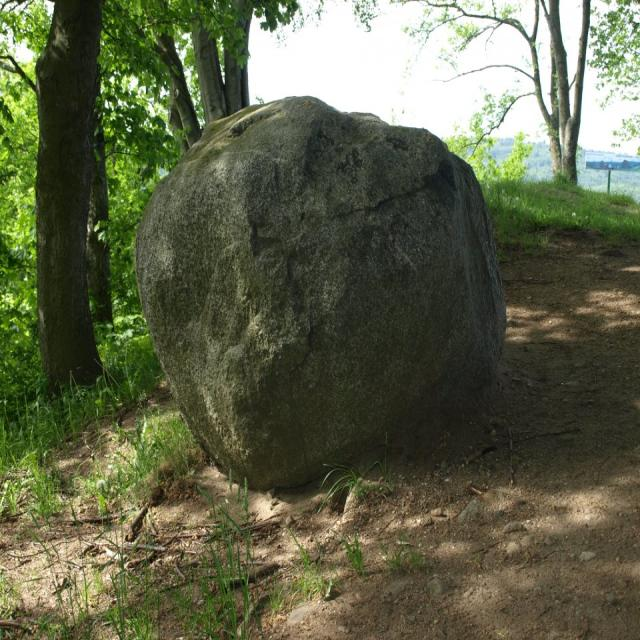grass: (0, 348, 261, 639), (481, 180, 639, 251)
stone: (135, 97, 505, 488)
white-sand: (250, 234, 639, 639)
